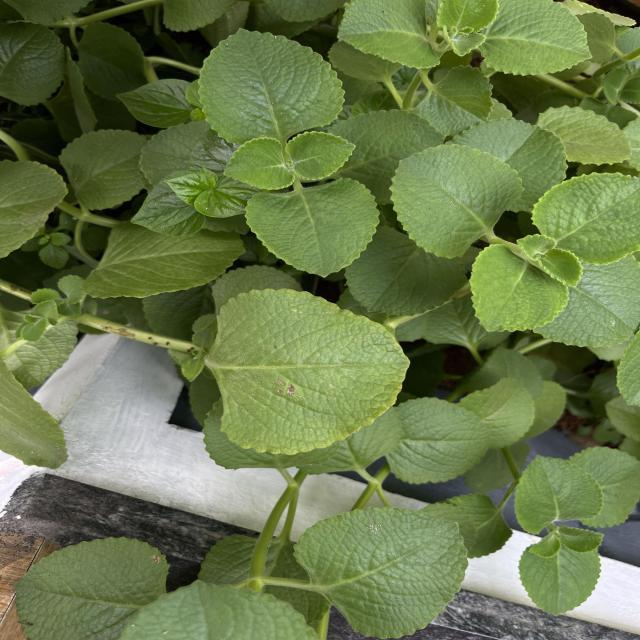Plectranthus barbatus: (203, 286, 413, 456), (292, 504, 471, 640), (196, 27, 346, 146), (11, 535, 170, 640), (387, 143, 527, 260), (242, 176, 382, 280), (80, 225, 248, 301), (344, 225, 468, 318), (532, 253, 640, 349), (530, 172, 640, 266), (385, 396, 492, 486), (468, 242, 570, 335), (479, 0, 594, 78), (55, 127, 150, 212), (514, 454, 606, 536), (335, 0, 441, 71), (516, 542, 604, 618), (412, 64, 495, 138), (0, 20, 68, 110), (76, 21, 148, 102), (540, 104, 634, 166), (458, 376, 536, 450), (223, 136, 297, 191), (284, 130, 356, 181), (538, 248, 584, 290), (516, 233, 557, 261)
